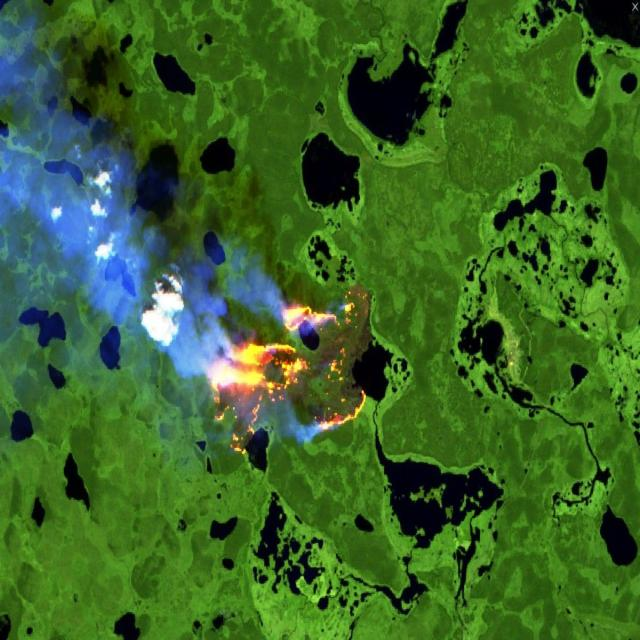fire: (198, 278, 372, 461)
